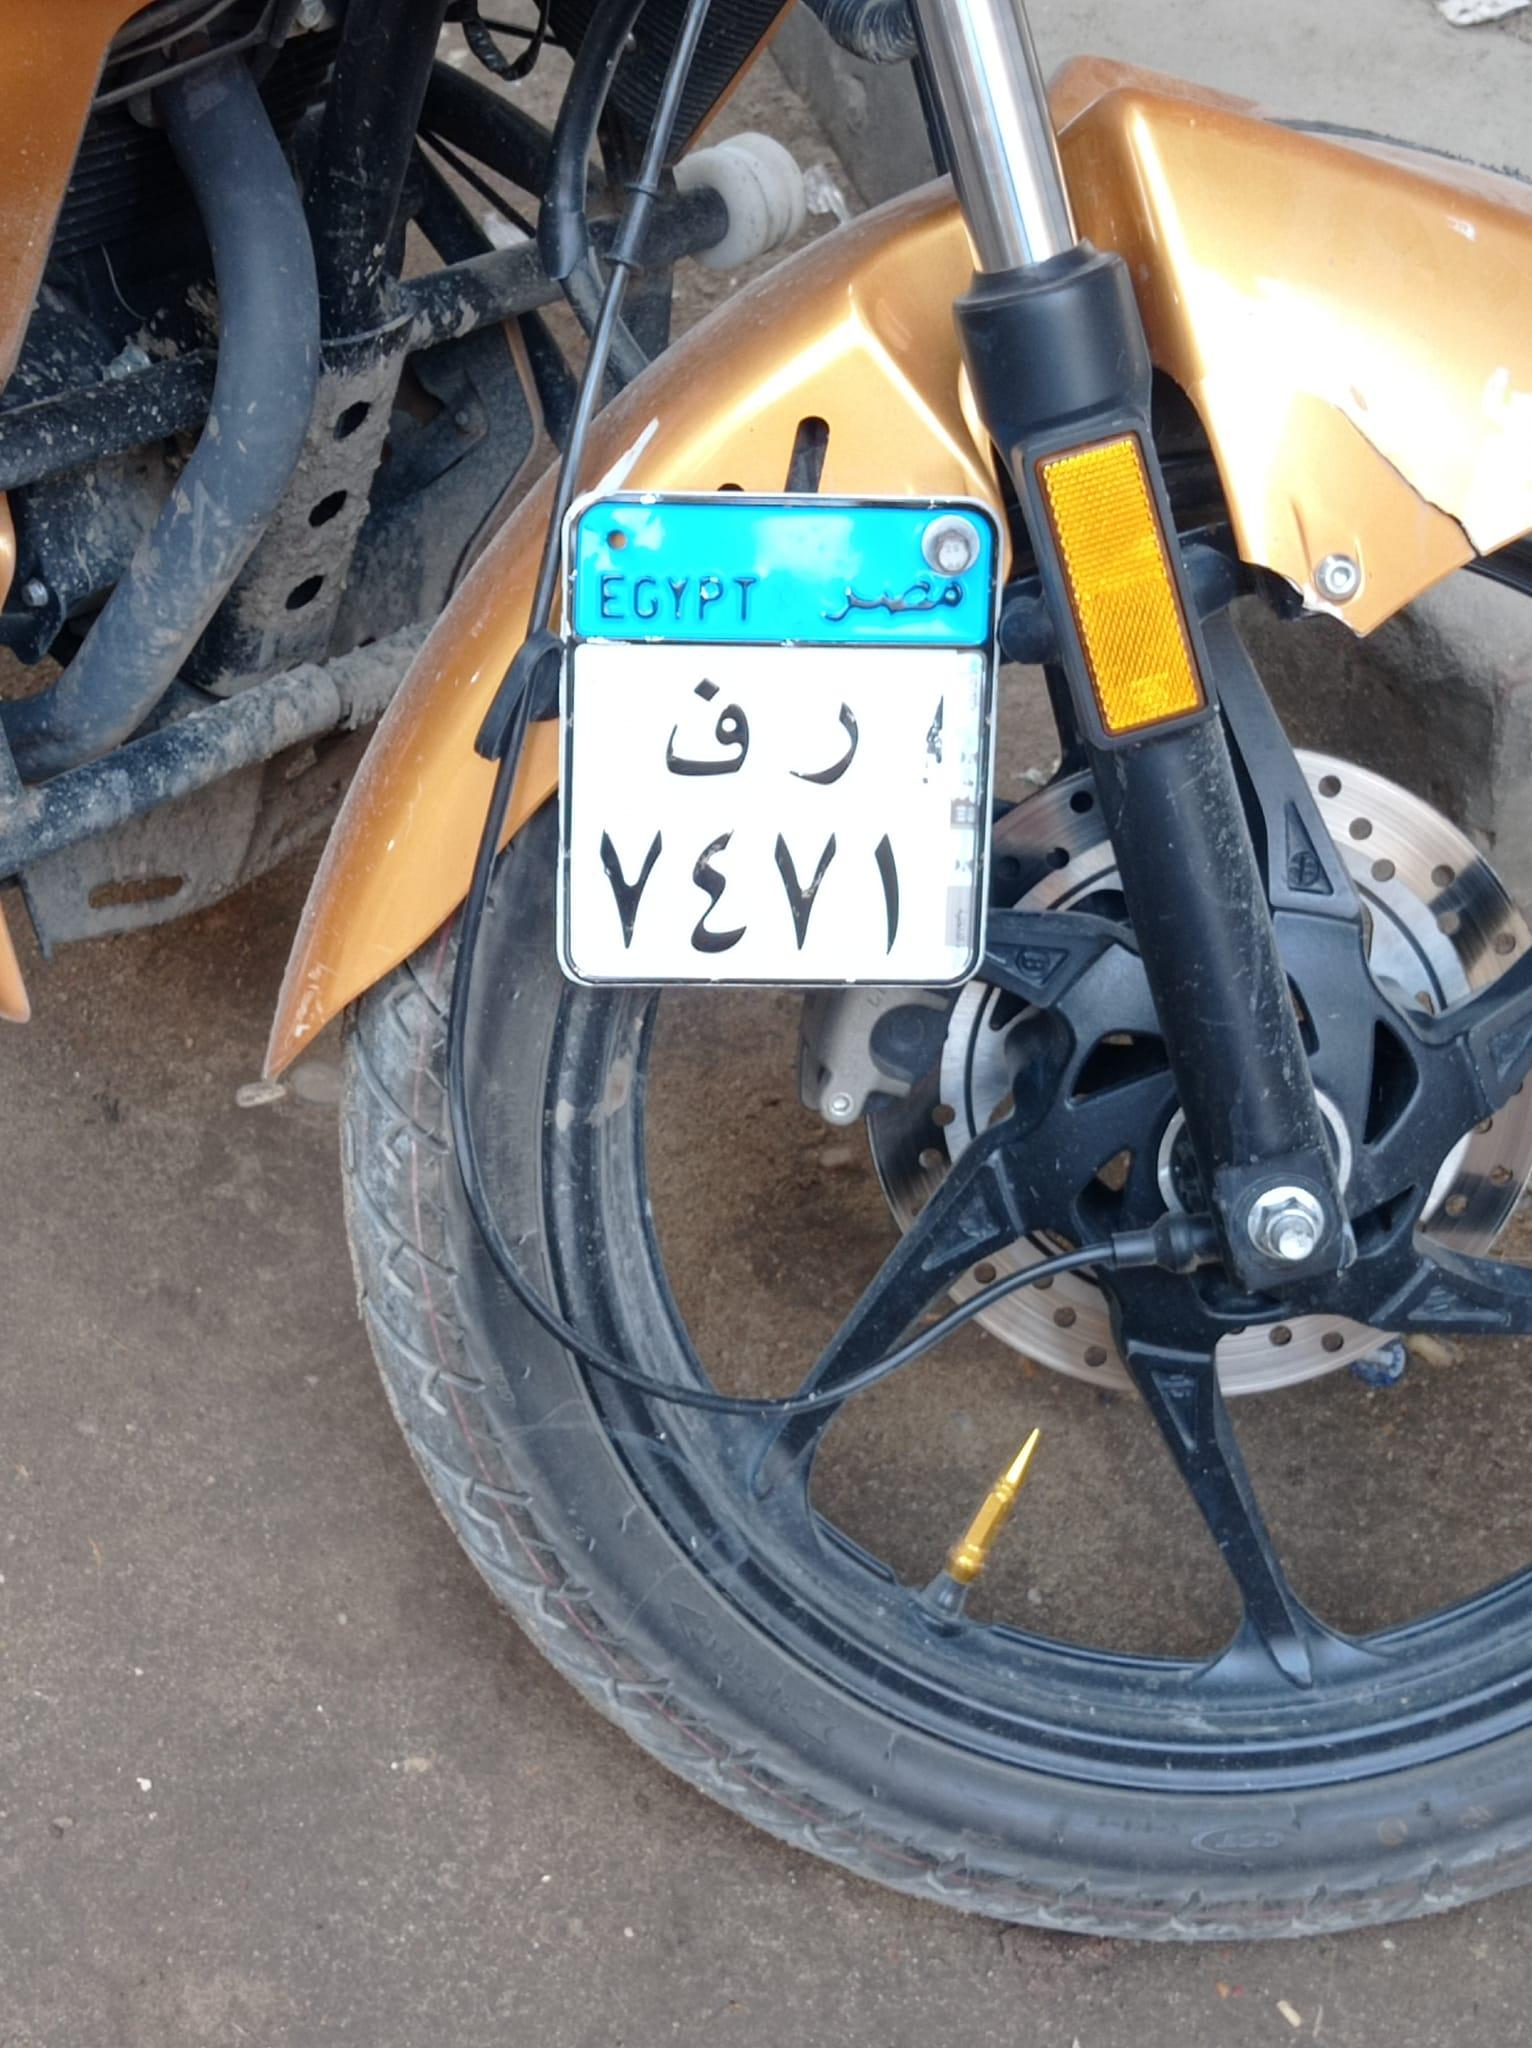License Plate: (563, 479, 1012, 990)
